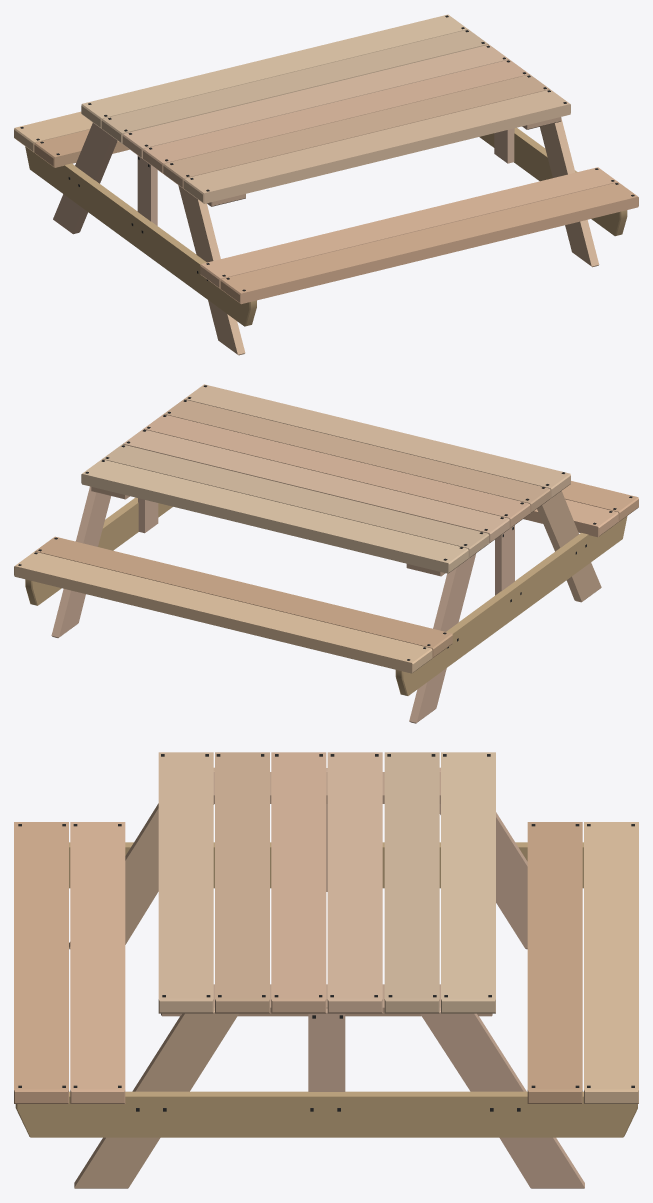
The model's file is WoodenTable_01 (Updated).fbx.
3 views of the same model, one above another, from view 1: azimuth 30°, elevation 25°; view 2: azimuth 150°, elevation 25°; view 3: azimuth 270°, elevation 25° (orthographic). The views are drawn at different scales.
Visible parts, largest first — view 1: WoodenTable_01; view 2: WoodenTable_01; view 3: WoodenTable_01.
Boxes of the visible parts, box(x1,y1,x2,y2) form: WoodenTable_01: box(14, 14, 638, 355); WoodenTable_01: box(14, 384, 638, 723); WoodenTable_01: box(14, 752, 638, 1188).
Size of the model in its own units: 27.75 by 9.28 by 27.27.
